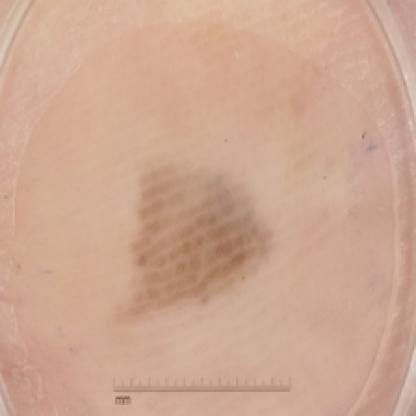malignant: (136, 150, 264, 299)
